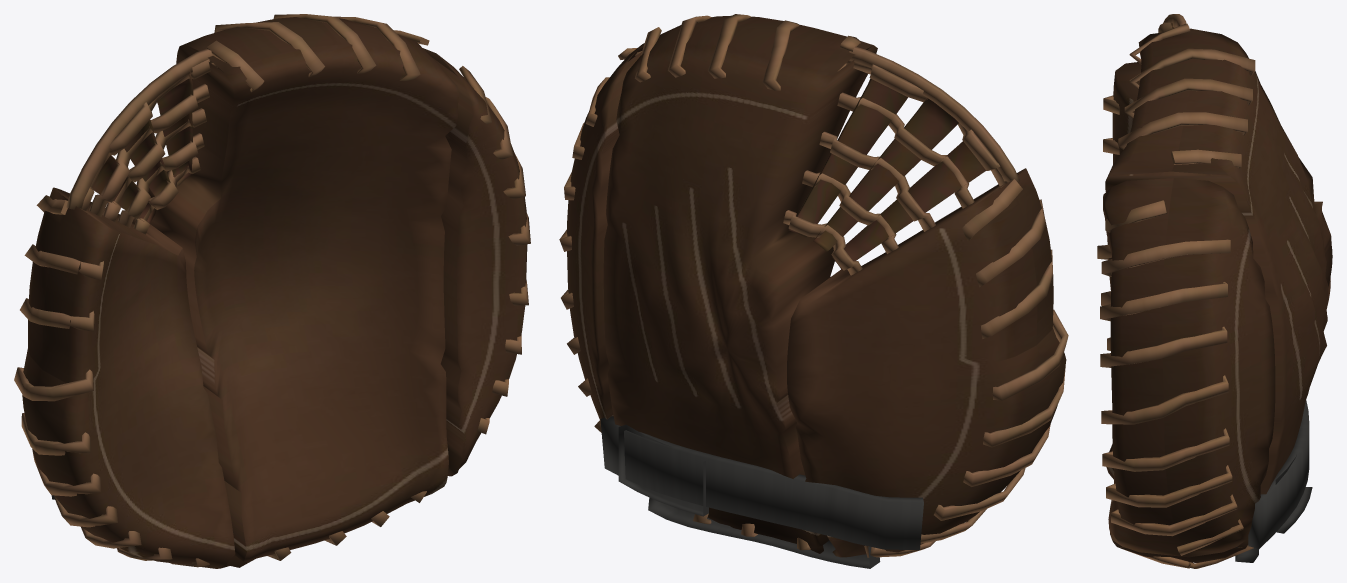
The model's file is mitt.glb.
The picture shows the model from 3 angles, left to right: view 1: azimuth 30°, elevation 25°; view 2: azimuth 150°, elevation 25°; view 3: azimuth 270°, elevation 25°; orthographic projection. The views are drawn at different scales.
Parts seen in each view (by area): view 1: Mitt; view 2: Mitt; view 3: Mitt.
Part boxes in pixels (x1,y1,x2,y2): Mitt: [14, 14, 530, 568]; Mitt: [559, 14, 1068, 568]; Mitt: [1097, 14, 1332, 568].
Size of the model in its own units: 0.2577 by 0.2635 by 0.1143.
1 material, 1 textured.
